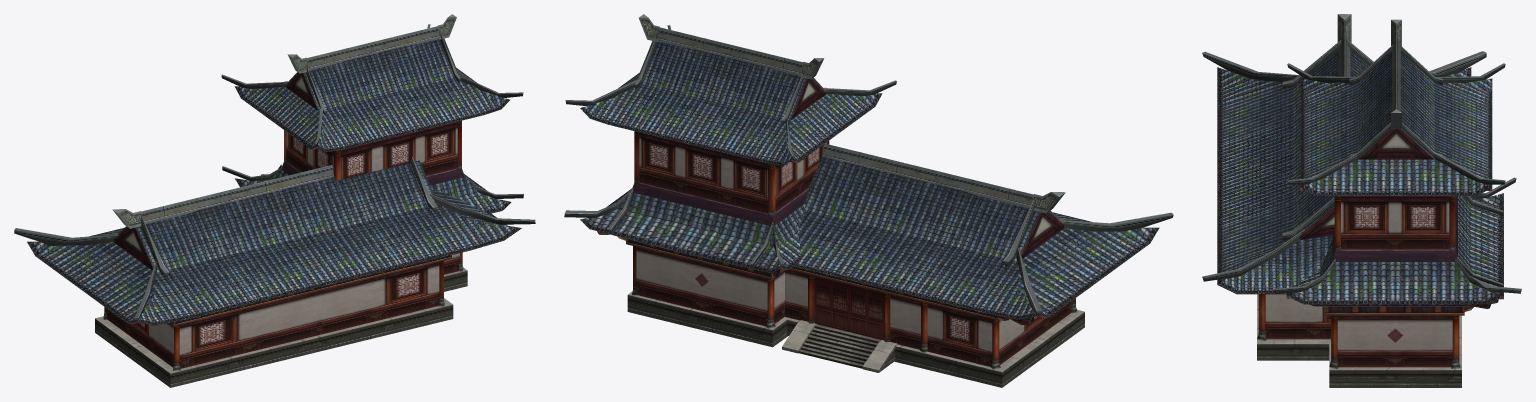
The model's file is Maincity06_Building_mj05_LOD1.FBX.
3 views of the same model, side by side, from view 1: azimuth 30°, elevation 25°; view 2: azimuth 150°, elevation 25°; view 3: azimuth 270°, elevation 25° (orthographic). The views are drawn at different scales.
Parts seen in each view (by area): view 1: Maincity06_Building_mj05_LOD1; view 2: Maincity06_Building_mj05_LOD1; view 3: Maincity06_Building_mj05_LOD1.
Part boxes in pixels (x1,y1,x2,y2): Maincity06_Building_mj05_LOD1: (14, 14, 535, 387); Maincity06_Building_mj05_LOD1: (564, 14, 1173, 387); Maincity06_Building_mj05_LOD1: (1202, 14, 1521, 387).
Bounding box in the file's own units: 2341 × 1290 × 1317.
